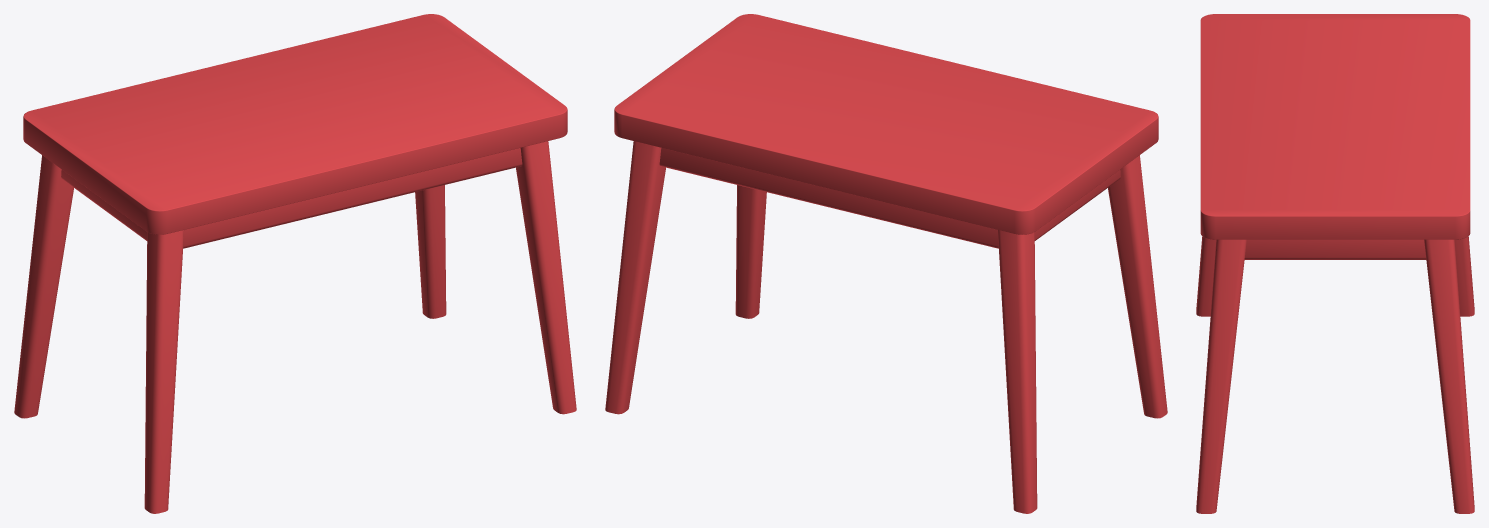
File: mesa_jantar_pes_chanfrados_vermelha.glb
The picture shows the model from 3 angles, left to right: view 1: azimuth 30°, elevation 25°; view 2: azimuth 150°, elevation 25°; view 3: azimuth 270°, elevation 25°; orthographic projection.
Visible parts, largest first — view 1: mesa_jantar_pes_chanfrados_vermelha; view 2: mesa_jantar_pes_chanfrados_vermelha; view 3: mesa_jantar_pes_chanfrados_vermelha.
Part boxes in pixels (x1,y1,x2,y2): mesa_jantar_pes_chanfrados_vermelha: (14, 14, 576, 513); mesa_jantar_pes_chanfrados_vermelha: (605, 14, 1167, 513); mesa_jantar_pes_chanfrados_vermelha: (1196, 14, 1474, 513).
Size of the model in its own units: 1.12 by 0.75 by 0.6397.
1 material, 1 textured.
